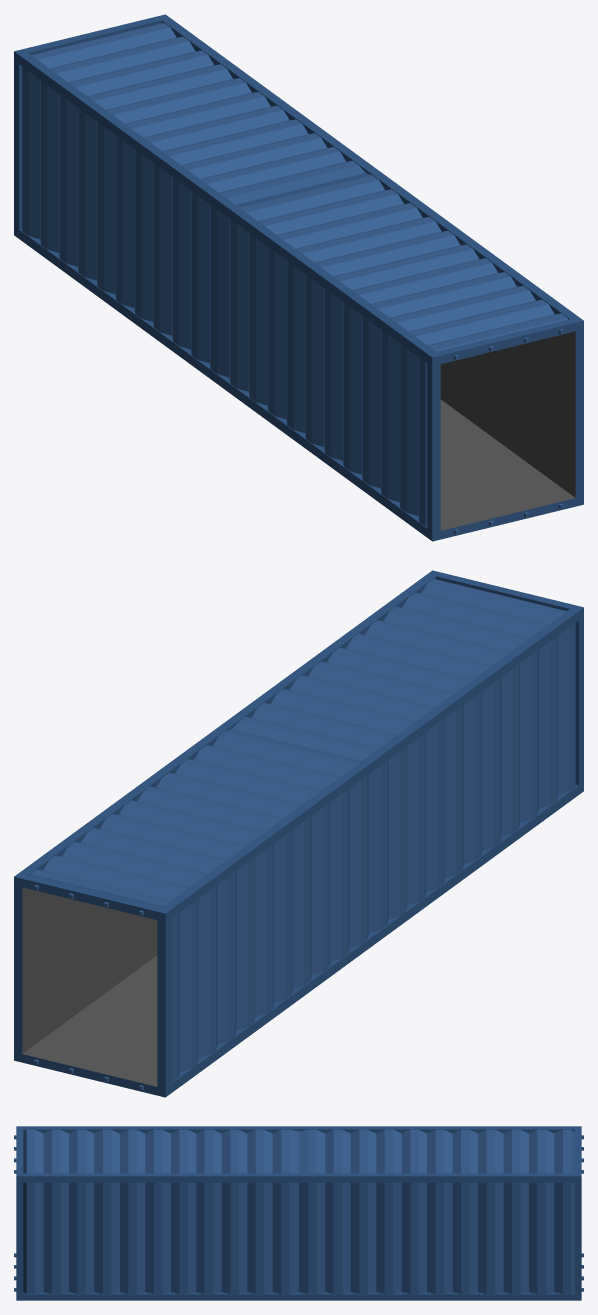
The model's file is SM_Props_ShippingContainer_06.glb.
3 renders of one model, top to bottom at view 1: azimuth 30°, elevation 25°; view 2: azimuth 150°, elevation 25°; view 3: azimuth 270°, elevation 25°, orthographic. The views are drawn at different scales.
Visible parts, largest first — view 1: SM_Props_ShippingContainer_06; view 2: SM_Props_ShippingContainer_06; view 3: SM_Props_ShippingContainer_06.
Part boxes in pixels (left/top/right/bottom): SM_Props_ShippingContainer_06: left=14, top=14, right=583, bottom=541; SM_Props_ShippingContainer_06: left=14, top=570, right=583, bottom=1097; SM_Props_ShippingContainer_06: left=14, top=1126, right=583, bottom=1300.
Bounding box in the file's own units: 2.5 × 2.9 × 12.05.
Materials: 1 (1 with a texture image).
